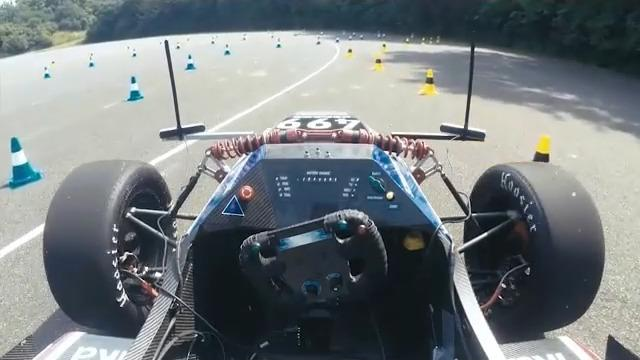blue_cone: (8, 137, 42, 190), (127, 76, 145, 102), (184, 54, 196, 71)
yellow_cone: (418, 68, 439, 97), (373, 53, 386, 72)
